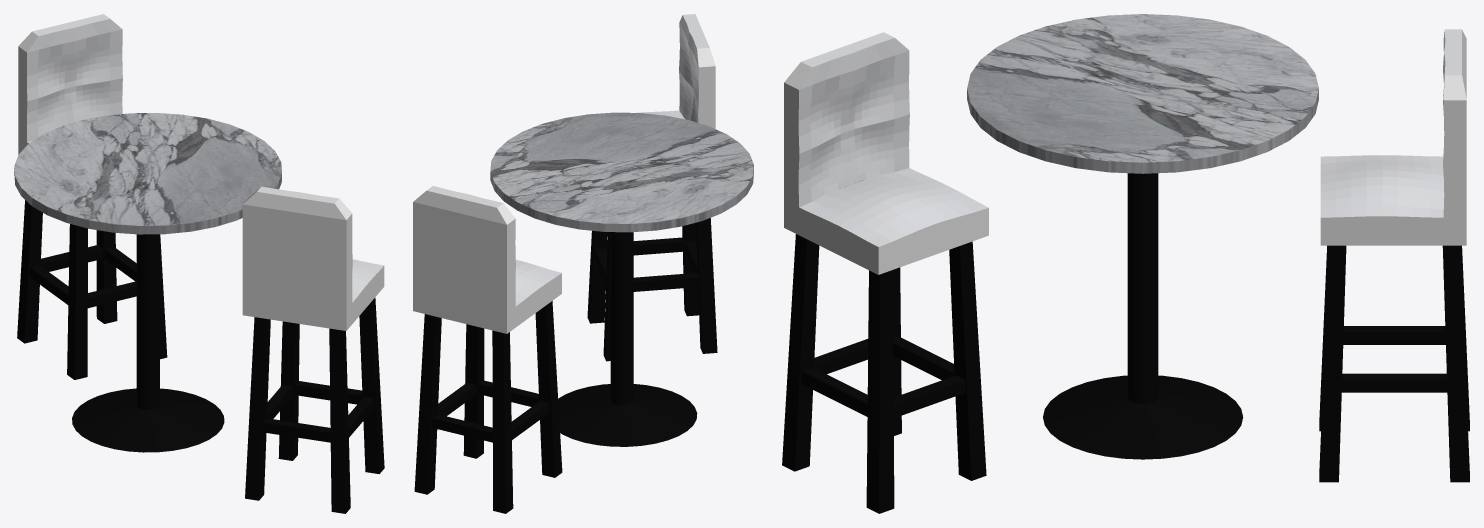
The model's file is bartables.gltf.
3 renders of one model, left to right at view 1: azimuth 30°, elevation 25°; view 2: azimuth 150°, elevation 25°; view 3: azimuth 270°, elevation 25°, orthographic. The views are drawn at different scales.
Parts seen in each view (by area): view 1: table, Cube.002, Cube, Cube.003, Cube.001; view 2: table, Cube, Cube.002, Cube.001, Cube.003; view 3: table, Cube.002, Cube, Cube.003, Cube.001.
Part boxes in pixels (box(x1,y1,x2,y2)): table: box(14, 113, 281, 452); Cube.002: box(242, 186, 384, 513); Cube: box(17, 14, 167, 379); Cube.003: box(263, 381, 374, 442); Cube.001: box(30, 245, 136, 308); table: box(490, 112, 753, 446); Cube: box(413, 186, 562, 513); Cube.002: box(587, 14, 717, 361); Cube.001: box(432, 380, 549, 442); Cube.003: box(594, 237, 699, 291); table: box(967, 14, 1318, 459); Cube.002: box(782, 32, 988, 513); Cube: box(1319, 29, 1469, 482); Cube.003: box(801, 336, 965, 418); Cube.001: box(1325, 326, 1447, 392).
Bounding box in the file's own units: 0.9641 × 1.12 × 1.74.
Materials: 4 (1 with a texture image).
